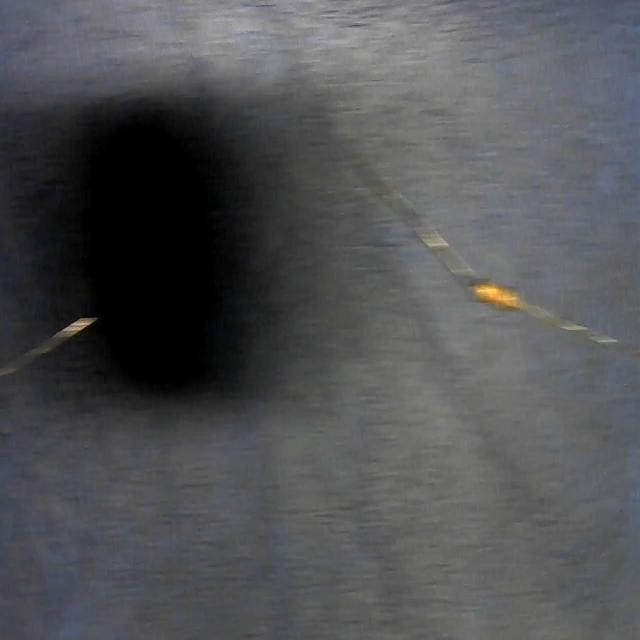resistor: (365, 178, 637, 349)
